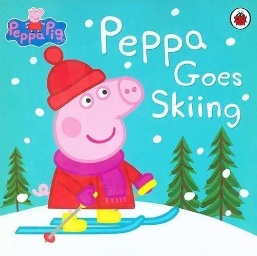Peppa: (31, 45, 160, 229)
